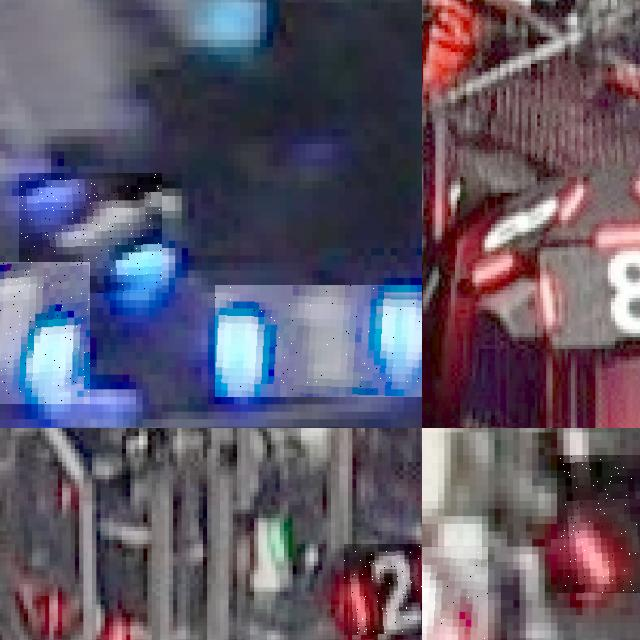B1: (214, 285, 422, 396), (19, 173, 162, 293), (0, 262, 90, 404)
R2: (343, 544, 422, 635)
R3: (557, 455, 640, 592), (422, 546, 488, 640)
